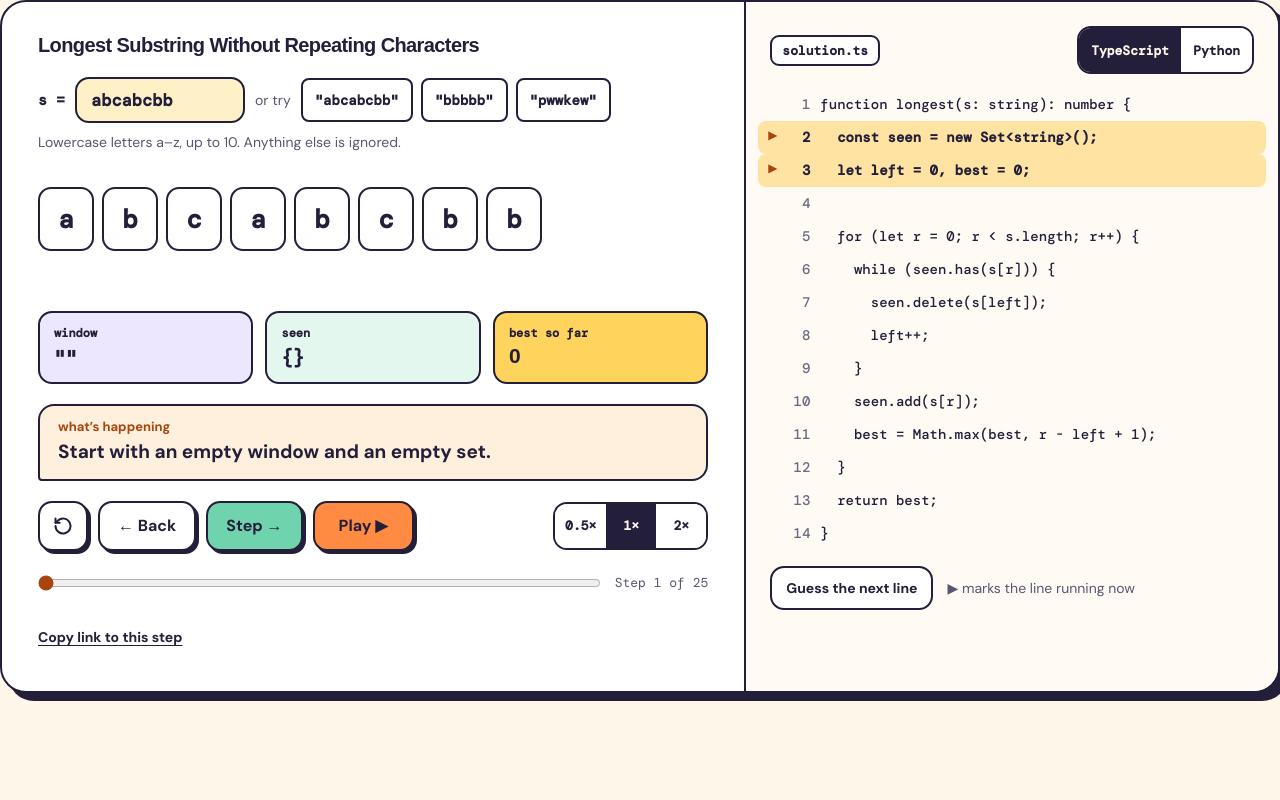
Test: VisualizerPlayer › shows a validation message for input that strips to nothing
Step 1. Replace the text in the field labelled "s =" with "123" → (160, 100), box [75, 77, 245, 123]
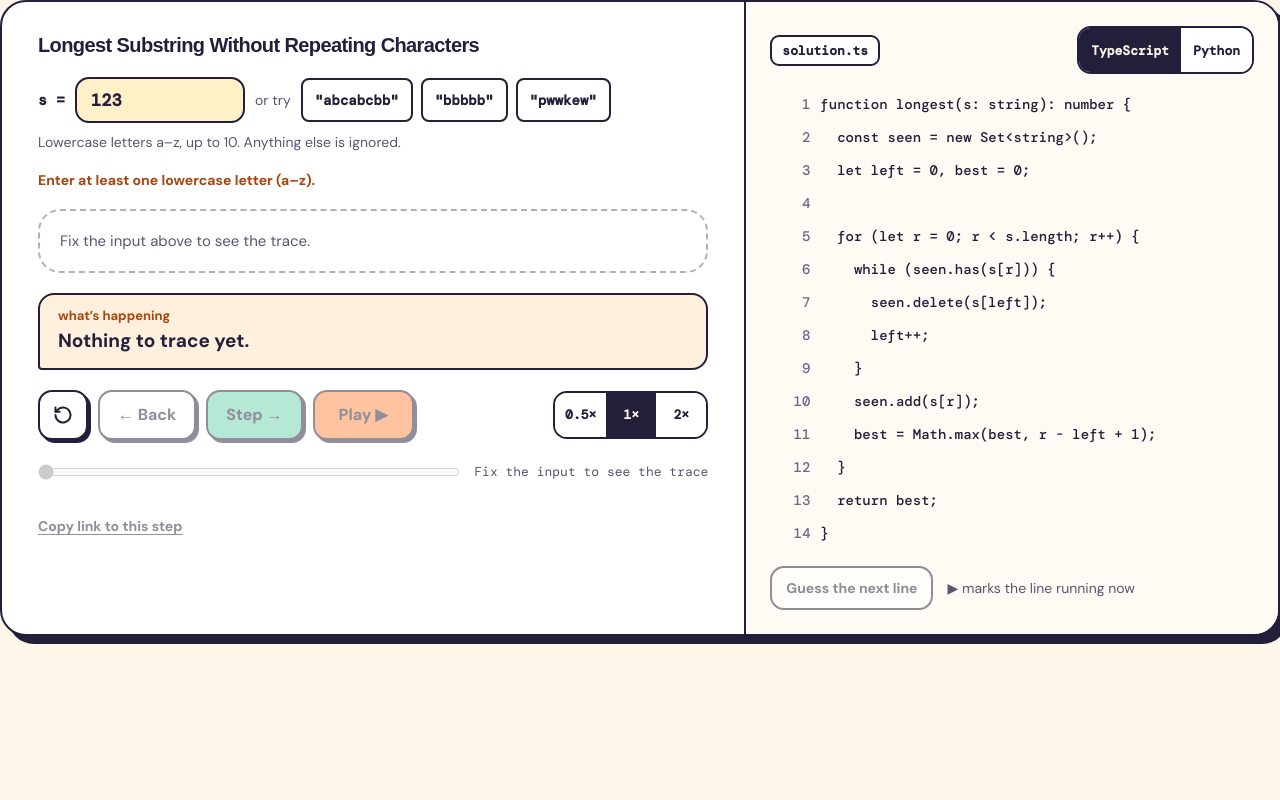
Now the message "Enter at least one lowercase letter (a–z)." is shown, box [38, 171, 315, 189]
